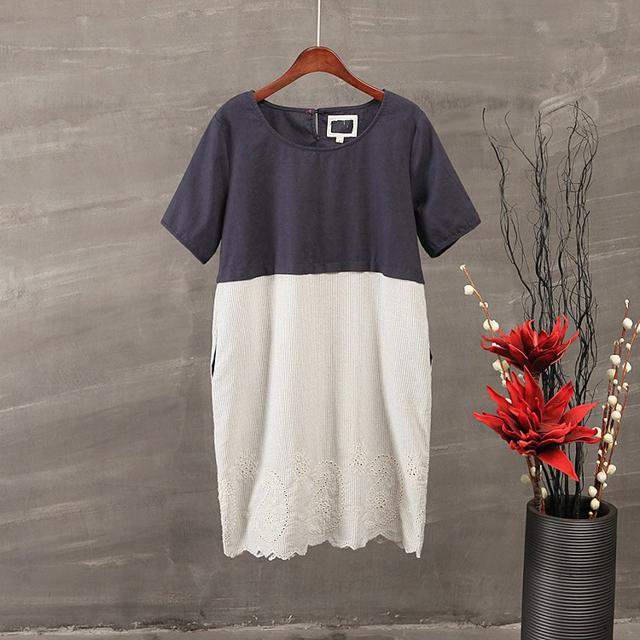Dresses: (164, 91, 484, 563)
